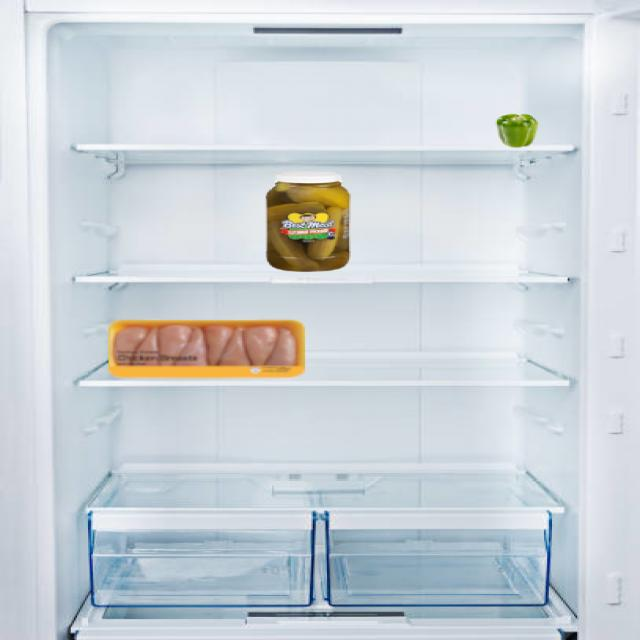avocado: (268, 171, 349, 273)
bell pepper: (495, 110, 538, 148)
chicken: (106, 317, 303, 379)
